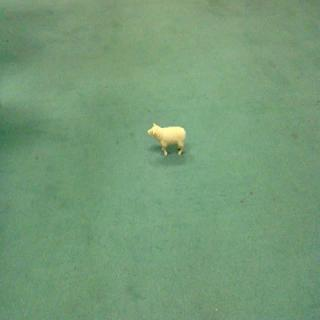sheep: (147, 115, 190, 160)
